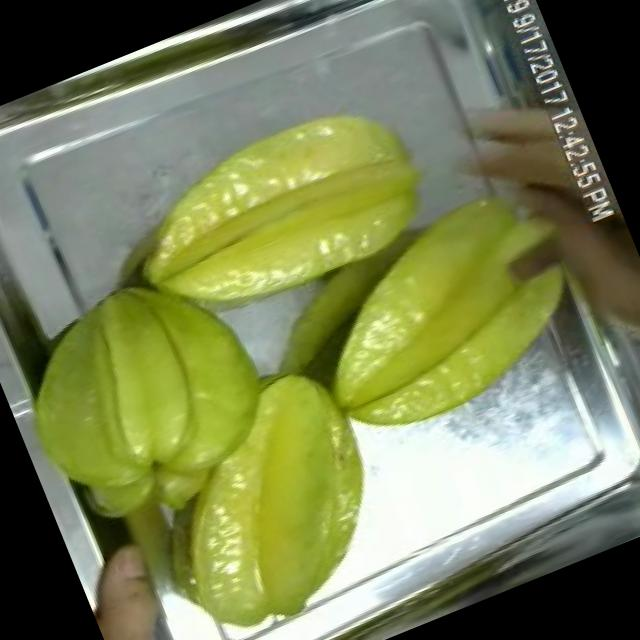fruit: (266, 151, 618, 465), (91, 70, 457, 360), (108, 338, 422, 640), (0, 256, 253, 551), (69, 523, 217, 640)
